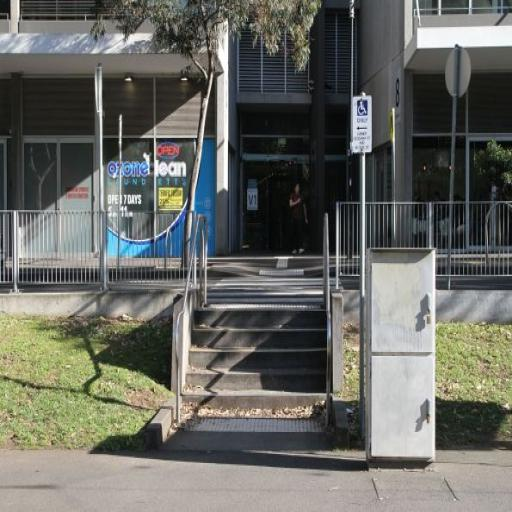Obstruction: (367, 246, 438, 462)
handrail: (1, 209, 187, 287)
signage: (349, 94, 372, 163)
stairs: (186, 295, 325, 406)
